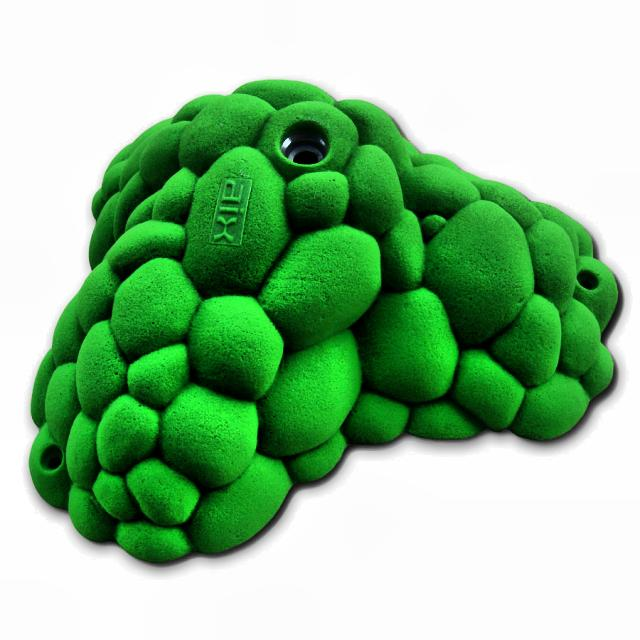Hold: (28, 68, 620, 555)
